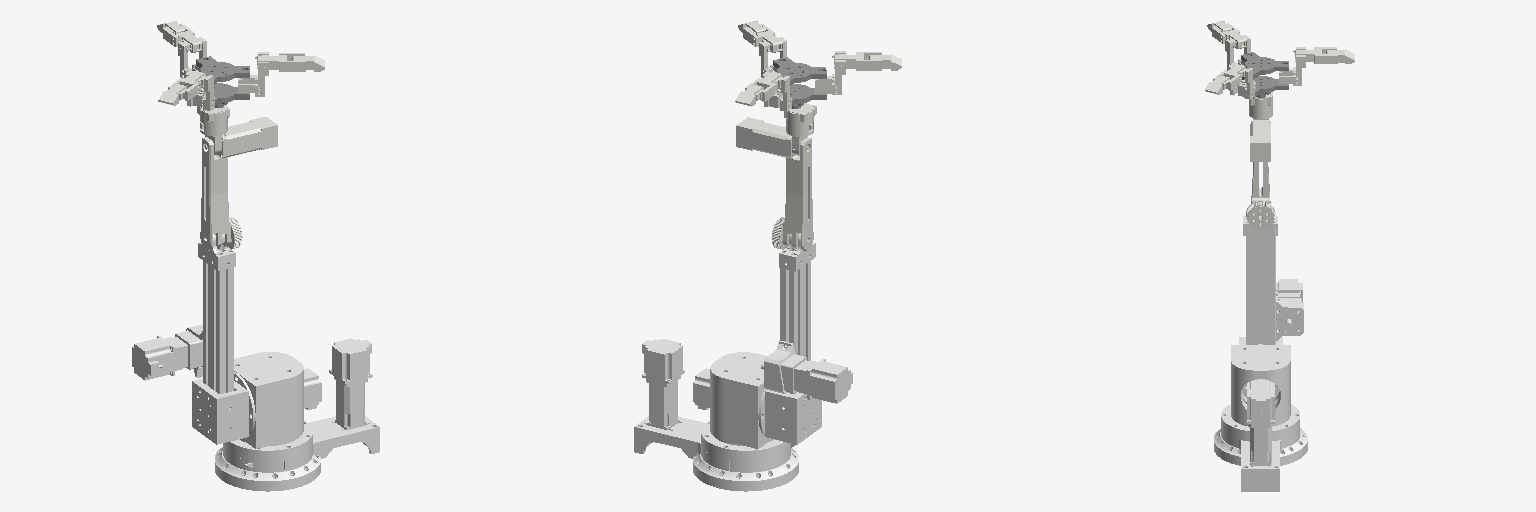
The robot description file, URDF, robot "roscue_arm":
<?xml version="1.0"?>
<robot name="roscue_arm">

  <!-- Materials -->
  <material name="Aluminum_6061">
    <color rgba="0.961 0.961 0.965 1.0"/>
  </material>
  <material name="pla_plus">
    <color rgba="0.941 0.933 0.914 1.0"/>
  </material>
  <material name="Steel">
    <color rgba="0.627 0.627 0.627 1.0"/>
  </material>

  <link name="base_link">
    <inertial>
      <origin xyz="0.085592 -0.000006 0.033051" rpy="0 0 0"/>
      <mass value="2.059958"/>
      <inertia ixx="9.903517e-03" ixy="-2.704119e-06" ixz="-7.021209e-03"
               iyy="2.508404e-02" iyz="-5.074094e-07" izz="2.166122e-02"/>
    </inertial>
    <visual>
      <origin xyz="0.000000 0.000000 0.000000" rpy="0 0 0"/>
      <geometry>
        <mesh filename="package://roscue_arm_description/meshes/roscue_arm/base_link.dae" scale="1 1 1"/>
      </geometry>
      <material name="Aluminum_6061"/>
    </visual>
    <collision>
      <origin xyz="0.000000 0.000000 0.000000" rpy="0 0 0"/>
      <geometry>
        <mesh filename="package://roscue_arm_description/meshes/roscue_arm/base_link.dae" scale="1 1 1"/>
      </geometry>
    </collision>
  </link>

  <link name="first_link">
    <inertial>
      <origin xyz="0.004239 0.000002 0.047508" rpy="0 0 0"/>
      <mass value="2.740366"/>
      <inertia ixx="8.847475e-03" ixy="-2.706351e-07" ixz="-7.679844e-05"
               iyy="1.074798e-02" iyz="5.141790e-07" izz="7.944490e-03"/>
    </inertial>
    <visual>
      <origin xyz="0.000000 0.000000 -0.027000" rpy="0 0 0"/>
      <geometry>
        <mesh filename="package://roscue_arm_description/meshes/roscue_arm/first_link.dae" scale="1 1 1"/>
      </geometry>
      <material name="Aluminum_6061"/>
    </visual>
    <collision>
      <origin xyz="0.000000 0.000000 -0.027000" rpy="0 0 0"/>
      <geometry>
        <mesh filename="package://roscue_arm_description/meshes/roscue_arm/first_link.dae" scale="1 1 1"/>
      </geometry>
    </collision>
  </link>

  <link name="second_link">
    <inertial>
      <origin xyz="0.090440 0.027174 0.062055" rpy="0 0 0"/>
      <mass value="2.121384"/>
      <inertia ixx="7.133714e-03" ixy="-5.709297e-04" ixz="-1.241331e-03"
               iyy="1.865493e-02" iyz="-1.829145e-03" izz="1.667169e-02"/>
    </inertial>
    <visual>
      <origin xyz="-0.000000 -0.000000 -0.015000" rpy="0 0 0"/>
      <geometry>
        <mesh filename="package://roscue_arm_description/meshes/roscue_arm/second_link.dae" scale="1 1 1"/>
      </geometry>
      <material name="Aluminum_6061"/>
    </visual>
    <collision>
      <origin xyz="-0.000000 -0.000000 -0.015000" rpy="0 0 0"/>
      <geometry>
        <mesh filename="package://roscue_arm_description/meshes/roscue_arm/second_link.dae" scale="1 1 1"/>
      </geometry>
    </collision>
  </link>

  <link name="third_link">
    <inertial>
      <origin xyz="0.000004 0.054418 0.100360" rpy="0 0 0"/>
      <mass value="1.052809"/>
      <inertia ixx="8.554377e-03" ixy="2.966167e-07" ixz="6.240968e-07"
               iyy="7.514592e-03" iyz="-1.419918e-03" izz="1.358899e-03"/>
    </inertial>
    <visual>
      <origin xyz="0.000000 0.021500 -0.380000" rpy="0 0 0"/>
      <geometry>
        <mesh filename="package://roscue_arm_description/meshes/roscue_arm/third_link.dae" scale="1 1 1"/>
      </geometry>
      <material name="pla_plus"/>
    </visual>
    <collision>
      <origin xyz="0.000000 0.021500 -0.380000" rpy="0 0 0"/>
      <geometry>
        <mesh filename="package://roscue_arm_description/meshes/roscue_arm/third_link.dae" scale="1 1 1"/>
      </geometry>
    </collision>
  </link>

  <link name="fourth_link">
    <inertial>
      <origin xyz="0.000000 -0.007427 0.049250" rpy="0 0 0"/>
      <mass value="0.211718"/>
      <inertia ixx="1.090154e-04" ixy="1.383154e-10" ixz="3.069742e-11"
               iyy="1.109803e-04" iyz="-5.814571e-07" izz="5.571132e-05"/>
    </inertial>
    <visual>
      <origin xyz="0.000000 0.002500 -0.560000" rpy="0 0 0"/>
      <geometry>
        <mesh filename="package://roscue_arm_description/meshes/roscue_arm/fourth_link.dae" scale="1 1 1"/>
      </geometry>
      <material name="pla_plus"/>
    </visual>
    <collision>
      <origin xyz="0.000000 0.002500 -0.560000" rpy="0 0 0"/>
      <geometry>
        <mesh filename="package://roscue_arm_description/meshes/roscue_arm/fourth_link.dae" scale="1 1 1"/>
      </geometry>
    </collision>
  </link>

  <link name="gripper_base_link">
    <inertial>
      <origin xyz="0.000002 0.000038 0.019700" rpy="0 0 0"/>
      <mass value="0.198410"/>
      <inertia ixx="1.885169e-04" ixy="-2.077551e-08" ixz="-6.621486e-08"
               iyy="1.864991e-04" iyz="5.126721e-07" izz="1.532954e-04"/>
    </inertial>
    <visual>
      <origin xyz="-0.057129 0.166814 -0.015000" rpy="0 0 0"/>
      <geometry>
        <mesh filename="package://roscue_arm_description/meshes/roscue_arm/gripper_base_link.dae" scale="1 1 1"/>
      </geometry>
      <material name="Steel"/>
    </visual>
    <collision>
      <origin xyz="-0.057129 0.166814 -0.015000" rpy="0 0 0"/>
      <geometry>
        <mesh filename="package://roscue_arm_description/meshes/roscue_arm/gripper_base_link.dae" scale="1 1 1"/>
      </geometry>
    </collision>
  </link>

  <link name="hand_finger_link_1_1_1">
    <inertial>
      <origin xyz="0.019858 0.004717 0.027085" rpy="0 0 0"/>
      <mass value="0.046695"/>
      <inertia ixx="2.642565e-05" ixy="-2.080413e-06" ixz="-5.970376e-06"
               iyy="2.484809e-05" iyz="-2.046743e-06" izz="1.899311e-05"/>
    </inertial>
    <visual>
      <origin xyz="-0.133950 0.019050 0.009800" rpy="0 0 0"/>
      <geometry>
        <mesh filename="package://roscue_arm_description/meshes/finger_1_base_link/hand_finger_link_1_1_1.dae" scale="1 1 1"/>
      </geometry>
      <material name="pla_plus"/>
    </visual>
    <collision>
      <origin xyz="-0.133950 0.019050 0.009800" rpy="0 0 0"/>
      <geometry>
        <mesh filename="package://roscue_arm_description/meshes/finger_1_base_link/hand_finger_link_1_1_1.dae" scale="1 1 1"/>
      </geometry>
    </collision>
  </link>

  <link name="hand_finger_link_2_1_1">
    <inertial>
      <origin xyz="0.019858 0.000976 0.023285" rpy="0 0 0"/>
      <mass value="0.046695"/>
      <inertia ixx="2.555917e-05" ixy="-3.948892e-07" ixz="-5.970376e-06"
               iyy="2.484809e-05" iyz="-4.392923e-07" izz="1.812663e-05"/>
    </inertial>
    <visual>
      <origin xyz="-0.133950 0.012050 0.006000" rpy="0 0 0"/>
      <geometry>
        <mesh filename="package://roscue_arm_description/meshes/finger_2_base_link/hand_finger_link_2_1_1.dae" scale="1 1 1"/>
      </geometry>
      <material name="pla_plus"/>
    </visual>
    <collision>
      <origin xyz="-0.133950 0.012050 0.006000" rpy="0 0 0"/>
      <geometry>
        <mesh filename="package://roscue_arm_description/meshes/finger_2_base_link/hand_finger_link_2_1_1.dae" scale="1 1 1"/>
      </geometry>
    </collision>
  </link>

  <link name="hand_finger_link_3_1_1">
    <inertial>
      <origin xyz="0.019858 0.004717 0.023285" rpy="0 0 0"/>
      <mass value="0.046695"/>
      <inertia ixx="2.642565e-05" ixy="-2.080413e-06" ixz="-5.970376e-06"
               iyy="2.484809e-05" iyz="-2.046743e-06" izz="1.899311e-05"/>
    </inertial>
    <visual>
      <origin xyz="-0.133950 0.019050 0.006000" rpy="0 0 0"/>
      <geometry>
        <mesh filename="package://roscue_arm_description/meshes/finger_3_base_link/hand_finger_link_3_1_1.dae" scale="1 1 1"/>
      </geometry>
      <material name="pla_plus"/>
    </visual>
    <collision>
      <origin xyz="-0.133950 0.019050 0.006000" rpy="0 0 0"/>
      <geometry>
        <mesh filename="package://roscue_arm_description/meshes/finger_3_base_link/hand_finger_link_3_1_1.dae" scale="1 1 1"/>
      </geometry>
    </collision>
  </link>

  <link name="finger1_link_1_1">
    <inertial>
      <origin xyz="-0.024621 0.015930 -0.000043" rpy="0 0 0"/>
      <mass value="0.042171"/>
      <inertia ixx="6.544513e-06" ixy="-4.094667e-07" ixz="-3.882140e-08"
               iyy="1.978938e-05" iyz="-3.776827e-08" izz="2.393266e-05"/>
    </inertial>
    <visual>
      <origin xyz="-0.003000 -0.106625 -0.014350" rpy="0 0 0"/>
      <geometry>
        <mesh filename="package://roscue_arm_description/meshes/finger_1_middle_link/finger1_link_1_1.dae" scale="1 1 1"/>
      </geometry>
      <material name="pla_plus"/>
    </visual>
    <collision>
      <origin xyz="-0.003000 -0.106625 -0.014350" rpy="0 0 0"/>
      <geometry>
        <mesh filename="package://roscue_arm_description/meshes/finger_1_middle_link/finger1_link_1_1.dae" scale="1 1 1"/>
      </geometry>
    </collision>
  </link>

  <link name="finger2_link_1_1">
    <inertial>
      <origin xyz="-0.024621 0.015930 -0.000043" rpy="0 0 0"/>
      <mass value="0.042171"/>
      <inertia ixx="6.544513e-06" ixy="-4.094667e-07" ixz="-3.882140e-08"
               iyy="1.978938e-05" iyz="-3.776827e-08" izz="2.393266e-05"/>
    </inertial>
    <visual>
      <origin xyz="-0.003000 -0.106625 -0.014350" rpy="0 0 0"/>
      <geometry>
        <mesh filename="package://roscue_arm_description/meshes/finger_2_middle_link/finger2_link_1_1.dae" scale="1 1 1"/>
      </geometry>
      <material name="pla_plus"/>
    </visual>
    <collision>
      <origin xyz="-0.003000 -0.106625 -0.014350" rpy="0 0 0"/>
      <geometry>
        <mesh filename="package://roscue_arm_description/meshes/finger_2_middle_link/finger2_link_1_1.dae" scale="1 1 1"/>
      </geometry>
    </collision>
  </link>

  <link name="finger3_link_1_1">
    <inertial>
      <origin xyz="-0.024621 0.015930 -0.000043" rpy="0 0 0"/>
      <mass value="0.042171"/>
      <inertia ixx="6.544513e-06" ixy="-4.094667e-07" ixz="-3.882140e-08"
               iyy="1.978938e-05" iyz="-3.776827e-08" izz="2.393266e-05"/>
    </inertial>
    <visual>
      <origin xyz="-0.003000 -0.106625 -0.014350" rpy="0 0 0"/>
      <geometry>
        <mesh filename="package://roscue_arm_description/meshes/finger_3_middle_link/finger3_link_1_1.dae" scale="1 1 1"/>
      </geometry>
      <material name="pla_plus"/>
    </visual>
    <collision>
      <origin xyz="-0.003000 -0.106625 -0.014350" rpy="0 0 0"/>
      <geometry>
        <mesh filename="package://roscue_arm_description/meshes/finger_3_middle_link/finger3_link_1_1.dae" scale="1 1 1"/>
      </geometry>
    </collision>
  </link>

  <link name="finger1_link_2_1">
    <inertial>
      <origin xyz="-0.014665 0.020300 -0.000601" rpy="0 0 0"/>
      <mass value="0.029336"/>
      <inertia ixx="2.544761e-06" ixy="5.067558e-07" ixz="-3.602612e-07"
               iyy="7.507799e-06" iyz="2.534948e-08" izz="8.600929e-06"/>
    </inertial>
    <visual>
      <origin xyz="0.060000 -0.102375 -0.014250" rpy="0 0 0"/>
      <geometry>
        <mesh filename="package://roscue_arm_description/meshes/finger_1_tip_link/finger1_link_2_1.dae" scale="1 1 1"/>
      </geometry>
      <material name="pla_plus"/>
    </visual>
    <collision>
      <origin xyz="0.060000 -0.102375 -0.014250" rpy="0 0 0"/>
      <geometry>
        <mesh filename="package://roscue_arm_description/meshes/finger_1_tip_link/finger1_link_2_1.dae" scale="1 1 1"/>
      </geometry>
    </collision>
  </link>

  <link name="finger2_link_2_1">
    <inertial>
      <origin xyz="-0.014665 0.020300 -0.000601" rpy="0 0 0"/>
      <mass value="0.029336"/>
      <inertia ixx="2.544761e-06" ixy="5.067558e-07" ixz="-3.602612e-07"
               iyy="7.507799e-06" iyz="2.534948e-08" izz="8.600929e-06"/>
    </inertial>
    <visual>
      <origin xyz="0.060000 -0.102375 -0.014250" rpy="0 0 0"/>
      <geometry>
        <mesh filename="package://roscue_arm_description/meshes/finger_2_tip_link/finger2_link_2_1.dae" scale="1 1 1"/>
      </geometry>
      <material name="pla_plus"/>
    </visual>
    <collision>
      <origin xyz="0.060000 -0.102375 -0.014250" rpy="0 0 0"/>
      <geometry>
        <mesh filename="package://roscue_arm_description/meshes/finger_2_tip_link/finger2_link_2_1.dae" scale="1 1 1"/>
      </geometry>
    </collision>
  </link>

  <link name="finger3_link_2_1">
    <inertial>
      <origin xyz="-0.014665 0.020300 -0.000601" rpy="0 0 0"/>
      <mass value="0.029336"/>
      <inertia ixx="2.544761e-06" ixy="5.067558e-07" ixz="-3.602612e-07"
               iyy="7.507799e-06" iyz="2.534948e-08" izz="8.600929e-06"/>
    </inertial>
    <visual>
      <origin xyz="0.060000 -0.102375 -0.014250" rpy="0 0 0"/>
      <geometry>
        <mesh filename="package://roscue_arm_description/meshes/finger_3_tip_link/finger3_link_2_1.dae" scale="1 1 1"/>
      </geometry>
      <material name="pla_plus"/>
    </visual>
    <collision>
      <origin xyz="0.060000 -0.102375 -0.014250" rpy="0 0 0"/>
      <geometry>
        <mesh filename="package://roscue_arm_description/meshes/finger_3_tip_link/finger3_link_2_1.dae" scale="1 1 1"/>
      </geometry>
    </collision>
  </link>

  <joint name="base_joint" type="continuous">
    <parent link="base_link"/>
    <child link="first_link"/>
    <origin xyz="0.000000 0.000000 0.027000" rpy="0.000000 -0.000000 0.000000"/>
    <axis xyz="0.000000 0.000000 -1.000000"/>
    <limit effort="100.0" velocity="1.00"/>
  </joint>

  <joint name="arm_joint_1" type="continuous">
    <parent link="first_link"/>
    <child link="second_link"/>
    <origin xyz="-0.065000 0.000000 0.063000" rpy="0.000000 -1.570796 0.000000"/>
    <axis xyz="-0.000000 -0.000000 -1.000000"/>
    <limit effort="100.0" velocity="1.00"/>
  </joint>

  <joint name="arm_joint_2" type="continuous">
    <parent link="second_link"/>
    <child link="third_link"/>
    <origin xyz="0.340500 0.000000 0.058500" rpy="-1.570796 -0.000000 -1.570796"/>
    <axis xyz="0.000000 1.000000 0.000000"/>
    <limit effort="100.0" velocity="1.00"/>
  </joint>

  <joint name="arm_joint_3" type="continuous">
    <parent link="third_link"/>
    <child link="fourth_link"/>
    <origin xyz="-0.000500 0.019500 0.180000" rpy="-0.000000 0.000000 0.000000"/>
    <axis xyz="0.000000 1.000000 0.000000"/>
    <limit effort="100.0" velocity="1.00"/>
  </joint>

  <joint name="arm_joint_4" type="continuous">
    <parent link="fourth_link"/>
    <child link="gripper_base_link"/>
    <origin xyz="-0.000000 0.002500 0.090000" rpy="0.000000 -0.000000 1.570796"/>
    <axis xyz="-0.000000 0.000000 1.000000"/>
    <limit effort="100.0" velocity="1.00"/>
  </joint>

  <joint name="finger_1_base_joint" type="continuous">
    <parent link="gripper_base_link"/>
    <child link="hand_finger_link_1_1_1"/>
    <origin xyz="-0.000308 0.047572 0.011400" rpy="0.000000 -0.000000 1.570796"/>
    <axis xyz="0.000000 0.000000 1.000000"/>
    <limit effort="100.0" velocity="1.00"/>
  </joint>

  <joint name="finger_2_base_joint" type="continuous">
    <parent link="gripper_base_link"/>
    <child link="hand_finger_link_2_1_1"/>
    <origin xyz="0.040983 -0.024158 0.015200" rpy="0.000000 -0.000000 -0.523599"/>
    <axis xyz="0.000000 -0.000000 1.000000"/>
    <limit effort="100.0" velocity="1.00"/>
  </joint>

  <joint name="finger_3_base_joint" type="continuous">
    <parent link="gripper_base_link"/>
    <child link="hand_finger_link_3_1_1"/>
    <origin xyz="-0.040913 -0.024275 0.015200" rpy="0.000000 0.000000 -2.617994"/>
    <axis xyz="0.000000 -0.000000 1.000000"/>
    <limit effort="100.0" velocity="1.00"/>
  </joint>

  <joint name="finger_1_middle_joint" type="continuous">
    <parent link="hand_finger_link_1_1_1"/>
    <child link="finger1_link_1_1"/>
    <origin xyz="0.035050 0.021150 0.060800" rpy="0.000000 0.000000 -3.141593"/>
    <axis xyz="-0.000000 -1.000000 0.000000"/>
    <limit effort="100.0" velocity="1.00"/>
  </joint>

  <joint name="finger_2_middle_joint" type="continuous">
    <parent link="hand_finger_link_2_1_1"/>
    <child link="finger2_link_1_1"/>
    <origin xyz="0.035050 0.014150 0.057000" rpy="0.000000 -0.000000 -3.141593"/>
    <axis xyz="-0.000000 -1.000000 0.000000"/>
    <limit effort="100.0" velocity="1.00"/>
  </joint>

  <joint name="finger_3_middle_joint" type="continuous">
    <parent link="hand_finger_link_3_1_1"/>
    <child link="finger3_link_1_1"/>
    <origin xyz="0.035050 0.021150 0.057000" rpy="0.000000 0.000000 3.141593"/>
    <axis xyz="0.000000 -1.000000 0.000000"/>
    <limit effort="100.0" velocity="1.00"/>
  </joint>

  <joint name="finger_1_tip_joint" type="continuous">
    <parent link="finger1_link_1_1"/>
    <child link="finger1_link_2_1"/>
    <origin xyz="-0.063000 -0.001525 -0.000300" rpy="0.000000 0.000000 0.000000"/>
    <axis xyz="-0.000000 -1.000000 0.000000"/>
    <limit effort="100.0" velocity="1.00"/>
  </joint>

  <joint name="finger_2_tip_joint" type="continuous">
    <parent link="finger2_link_1_1"/>
    <child link="finger2_link_2_1"/>
    <origin xyz="-0.063000 -0.001525 -0.000300" rpy="0.000000 0.000000 -0.000000"/>
    <axis xyz="0.000000 -1.000000 0.000000"/>
    <limit effort="100.0" velocity="1.00"/>
  </joint>

  <joint name="finger_3_tip_joint" type="continuous">
    <parent link="finger3_link_1_1"/>
    <child link="finger3_link_2_1"/>
    <origin xyz="-0.063000 -0.001525 -0.000300" rpy="0.000000 0.000000 -0.000000"/>
    <axis xyz="0.000000 -1.000000 0.000000"/>
    <limit effort="100.0" velocity="1.00"/>
  </joint>

  <!-- ROS 2 control: generated generic system -->
  <ros2_control name="roscue_arm_system" type="system">
    <hardware>
      <plugin>mock_components/GenericSystem</plugin>
      <param name="cmd_topic">sim/roscue_arm_system/cmd</param>
      <param name="state_topic">sim/roscue_arm_system/state</param>
    </hardware>

    <joint name="arm_joint_1">
      <command_interface name="position"/>
      <command_interface name="velocity"/>
      <state_interface name="position">
        <param name="initial_value">0.0</param>
      </state_interface>
      <state_interface name="velocity"/>
      <state_interface name="effort"/>
    </joint>
    <joint name="arm_joint_2">
      <command_interface name="position"/>
      <command_interface name="velocity"/>
      <state_interface name="position">
        <param name="initial_value">0.0</param>
      </state_interface>
      <state_interface name="velocity"/>
      <state_interface name="effort"/>
    </joint>
    <joint name="arm_joint_3">
      <command_interface name="position"/>
      <command_interface name="velocity"/>
      <state_interface name="position">
        <param name="initial_value">0.0</param>
      </state_interface>
      <state_interface name="velocity"/>
      <state_interface name="effort"/>
    </joint>
    <joint name="arm_joint_4">
      <command_interface name="position"/>
      <command_interface name="velocity"/>
      <state_interface name="position">
        <param name="initial_value">0.0</param>
      </state_interface>
      <state_interface name="velocity"/>
      <state_interface name="effort"/>
    </joint>
    <joint name="base_joint">
      <command_interface name="position"/>
      <command_interface name="velocity"/>
      <state_interface name="position">
        <param name="initial_value">0.0</param>
      </state_interface>
      <state_interface name="velocity"/>
      <state_interface name="effort"/>
    </joint>
    <joint name="finger_1_base_joint">
      <command_interface name="position"/>
      <command_interface name="velocity"/>
      <state_interface name="position">
        <param name="initial_value">0.0</param>
      </state_interface>
      <state_interface name="velocity"/>
      <state_interface name="effort"/>
    </joint>
    <joint name="finger_1_middle_joint">
      <command_interface name="position"/>
      <command_interface name="velocity"/>
      <state_interface name="position">
        <param name="initial_value">0.0</param>
      </state_interface>
      <state_interface name="velocity"/>
      <state_interface name="effort"/>
    </joint>
    <joint name="finger_1_tip_joint">
      <command_interface name="position"/>
      <command_interface name="velocity"/>
      <state_interface name="position">
        <param name="initial_value">0.0</param>
      </state_interface>
      <state_interface name="velocity"/>
      <state_interface name="effort"/>
    </joint>
    <joint name="finger_2_base_joint">
      <command_interface name="position"/>
      <command_interface name="velocity"/>
      <state_interface name="position">
        <param name="initial_value">0.0</param>
      </state_interface>
      <state_interface name="velocity"/>
      <state_interface name="effort"/>
    </joint>
    <joint name="finger_2_middle_joint">
      <command_interface name="position"/>
      <command_interface name="velocity"/>
      <state_interface name="position">
        <param name="initial_value">0.0</param>
      </state_interface>
      <state_interface name="velocity"/>
      <state_interface name="effort"/>
    </joint>
    <joint name="finger_2_tip_joint">
      <command_interface name="position"/>
      <command_interface name="velocity"/>
      <state_interface name="position">
        <param name="initial_value">0.0</param>
      </state_interface>
      <state_interface name="velocity"/>
      <state_interface name="effort"/>
    </joint>
    <joint name="finger_3_base_joint">
      <command_interface name="position"/>
      <command_interface name="velocity"/>
      <state_interface name="position">
        <param name="initial_value">0.0</param>
      </state_interface>
      <state_interface name="velocity"/>
      <state_interface name="effort"/>
    </joint>
    <joint name="finger_3_middle_joint">
      <command_interface name="position"/>
      <command_interface name="velocity"/>
      <state_interface name="position">
        <param name="initial_value">0.0</param>
      </state_interface>
      <state_interface name="velocity"/>
      <state_interface name="effort"/>
    </joint>
    <joint name="finger_3_tip_joint">
      <command_interface name="position"/>
      <command_interface name="velocity"/>
      <state_interface name="position">
        <param name="initial_value">0.0</param>
      </state_interface>
      <state_interface name="velocity"/>
      <state_interface name="effort"/>
    </joint>
  </ros2_control>

</robot>

--- Facts derived from the render (not from the file) ---
3 views of the same robot in one strip: view 1: azimuth 30°, elevation 25°; view 2: azimuth 150°, elevation 25°; view 3: azimuth 270°, elevation 25° (orthographic).
Model roscue_arm with 15 links and 14 joints (14 continuous), rooted at base_link, posed all joints at 0.
Visible links, largest first — view 1: second_link, base_link, first_link, third_link, gripper_base_link, fourth_link, hand_finger_link_2_1_1, finger2_link_1_1, hand_finger_link_3_1_1, finger1_link_1_1; view 2: base_link, second_link, first_link, third_link, gripper_base_link, fourth_link, hand_finger_link_3_1_1, finger3_link_1_1, finger2_link_1_1, hand_finger_link_1_1_1; view 3: base_link, second_link, first_link, third_link, gripper_base_link, fourth_link.
Boxes of the visible links, x1,y1,x2,y2 form: second_link: [132, 234, 248, 444]; base_link: [215, 338, 379, 491]; first_link: [234, 352, 321, 448]; third_link: [200, 117, 277, 250]; gripper_base_link: [196, 56, 249, 107]; fourth_link: [197, 105, 229, 154]; hand_finger_link_2_1_1: [238, 52, 268, 96]; finger2_link_1_1: [257, 53, 305, 71]; hand_finger_link_3_1_1: [185, 70, 214, 110]; finger1_link_1_1: [163, 24, 202, 52]; base_link: [634, 339, 798, 491]; second_link: [761, 233, 852, 444]; first_link: [693, 352, 773, 448]; third_link: [736, 117, 813, 250]; gripper_base_link: [773, 57, 826, 108]; fourth_link: [784, 103, 816, 155]; hand_finger_link_3_1_1: [815, 51, 845, 94]; finger3_link_1_1: [834, 52, 881, 70]; finger2_link_1_1: [743, 24, 782, 52]; hand_finger_link_1_1_1: [762, 71, 791, 111]; base_link: [1214, 387, 1307, 491]; second_link: [1239, 216, 1303, 344]; first_link: [1231, 344, 1290, 426]; third_link: [1246, 120, 1275, 229]; gripper_base_link: [1241, 52, 1288, 98]; fourth_link: [1249, 92, 1272, 119].
Size in the robot's own frame: 0.4814 by 0.3038 by 0.832 metres.
15 mesh visuals loaded from 15 distinct referenced files (15 Collada DAE).
